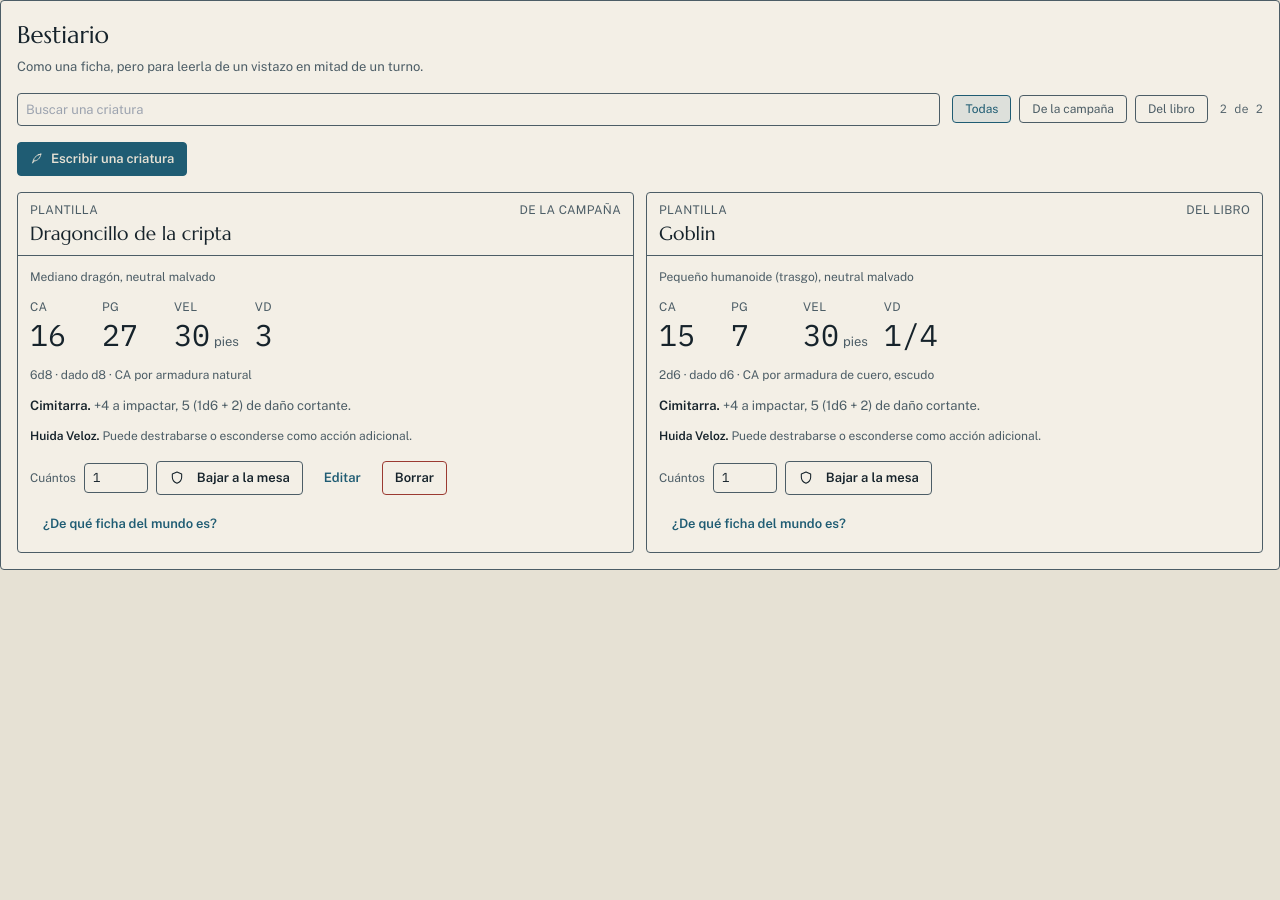
Test: PanelDeBestiario — «¿de qué ficha del mundo es?» › desplegar, elegir «Garrik» y «Bajar a la mesa» manda el entityId
Check: the heading "Goblin" is shown, box [659,220,716,244]
What coordinates should you click on to do the following:
click the button "¿De qué ficha del mundo es?" below "2d6"
I would click on:
 (759, 523)
Its box is [659,506,859,540].
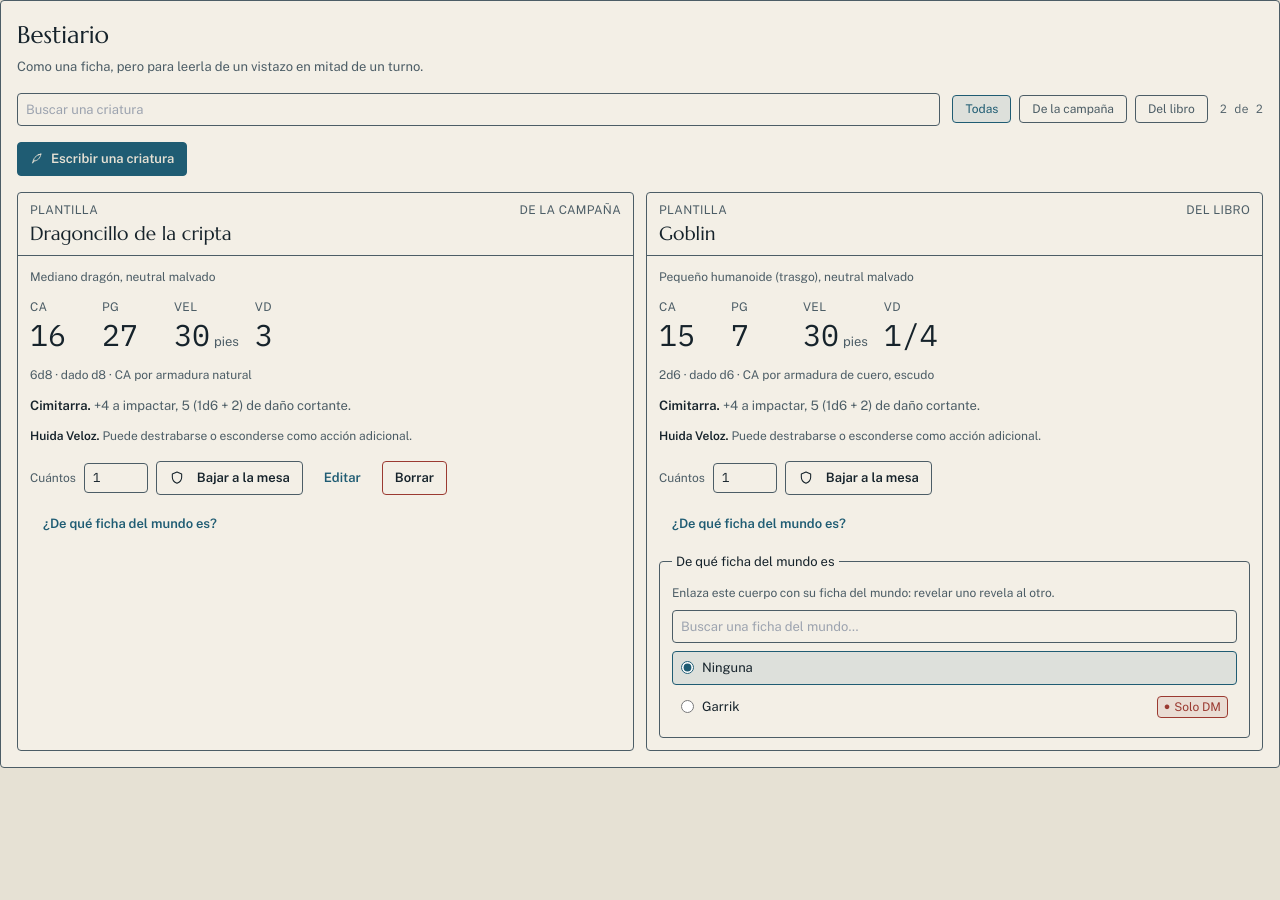
What coordinates should you click on to do the following:
click the radio button labelled "Garrik ● Solo DM"
I would click on:
 (688, 706)
Its box is [681,700,694,713].
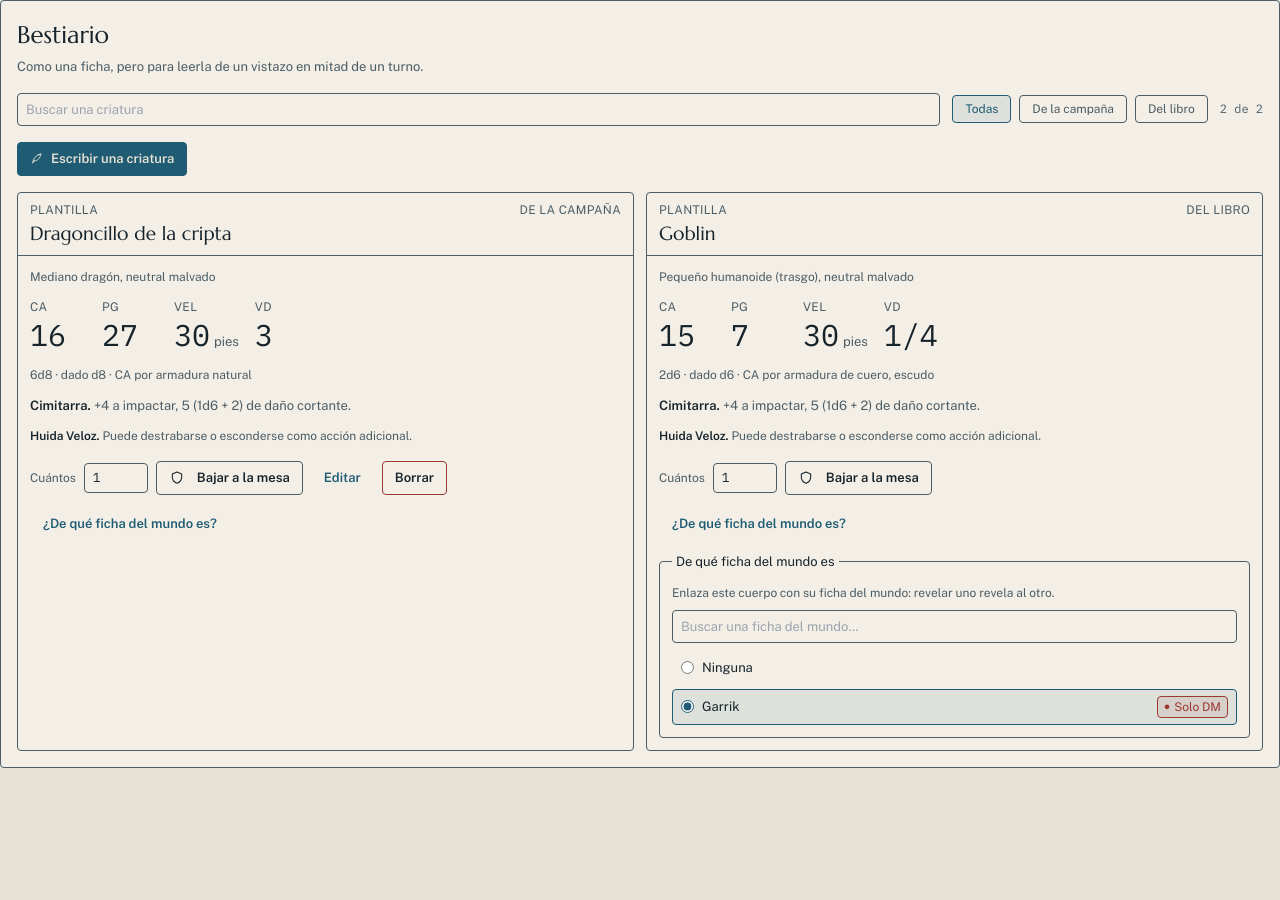
What coordinates should you click on to do the following:
click the button "Bajar a la mesa" below "2d6"
I would click on:
 (858, 478)
Its box is [785,461,932,494].
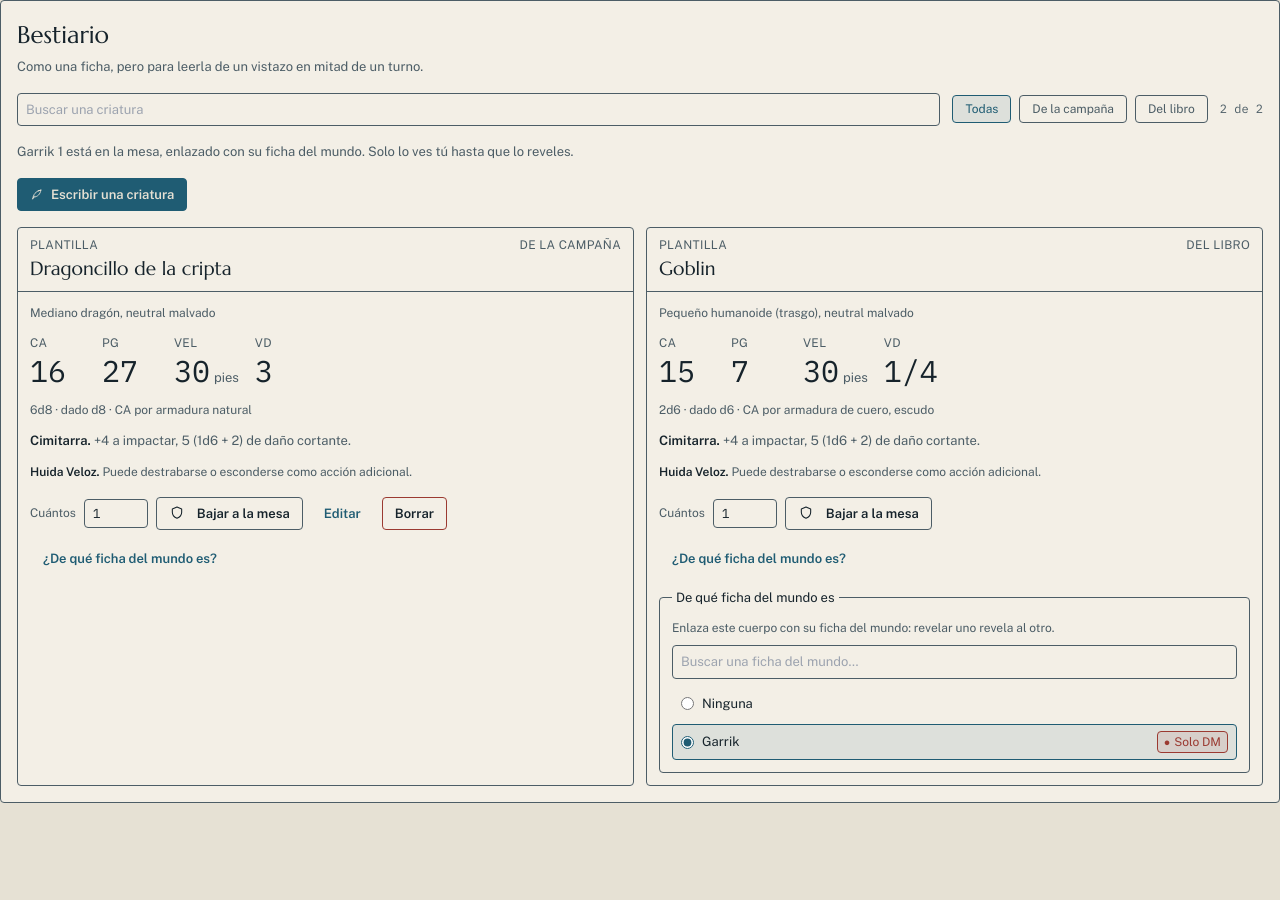
Check: the message shows "enlazado con su ficha del mundo", box [17,144,574,159]
